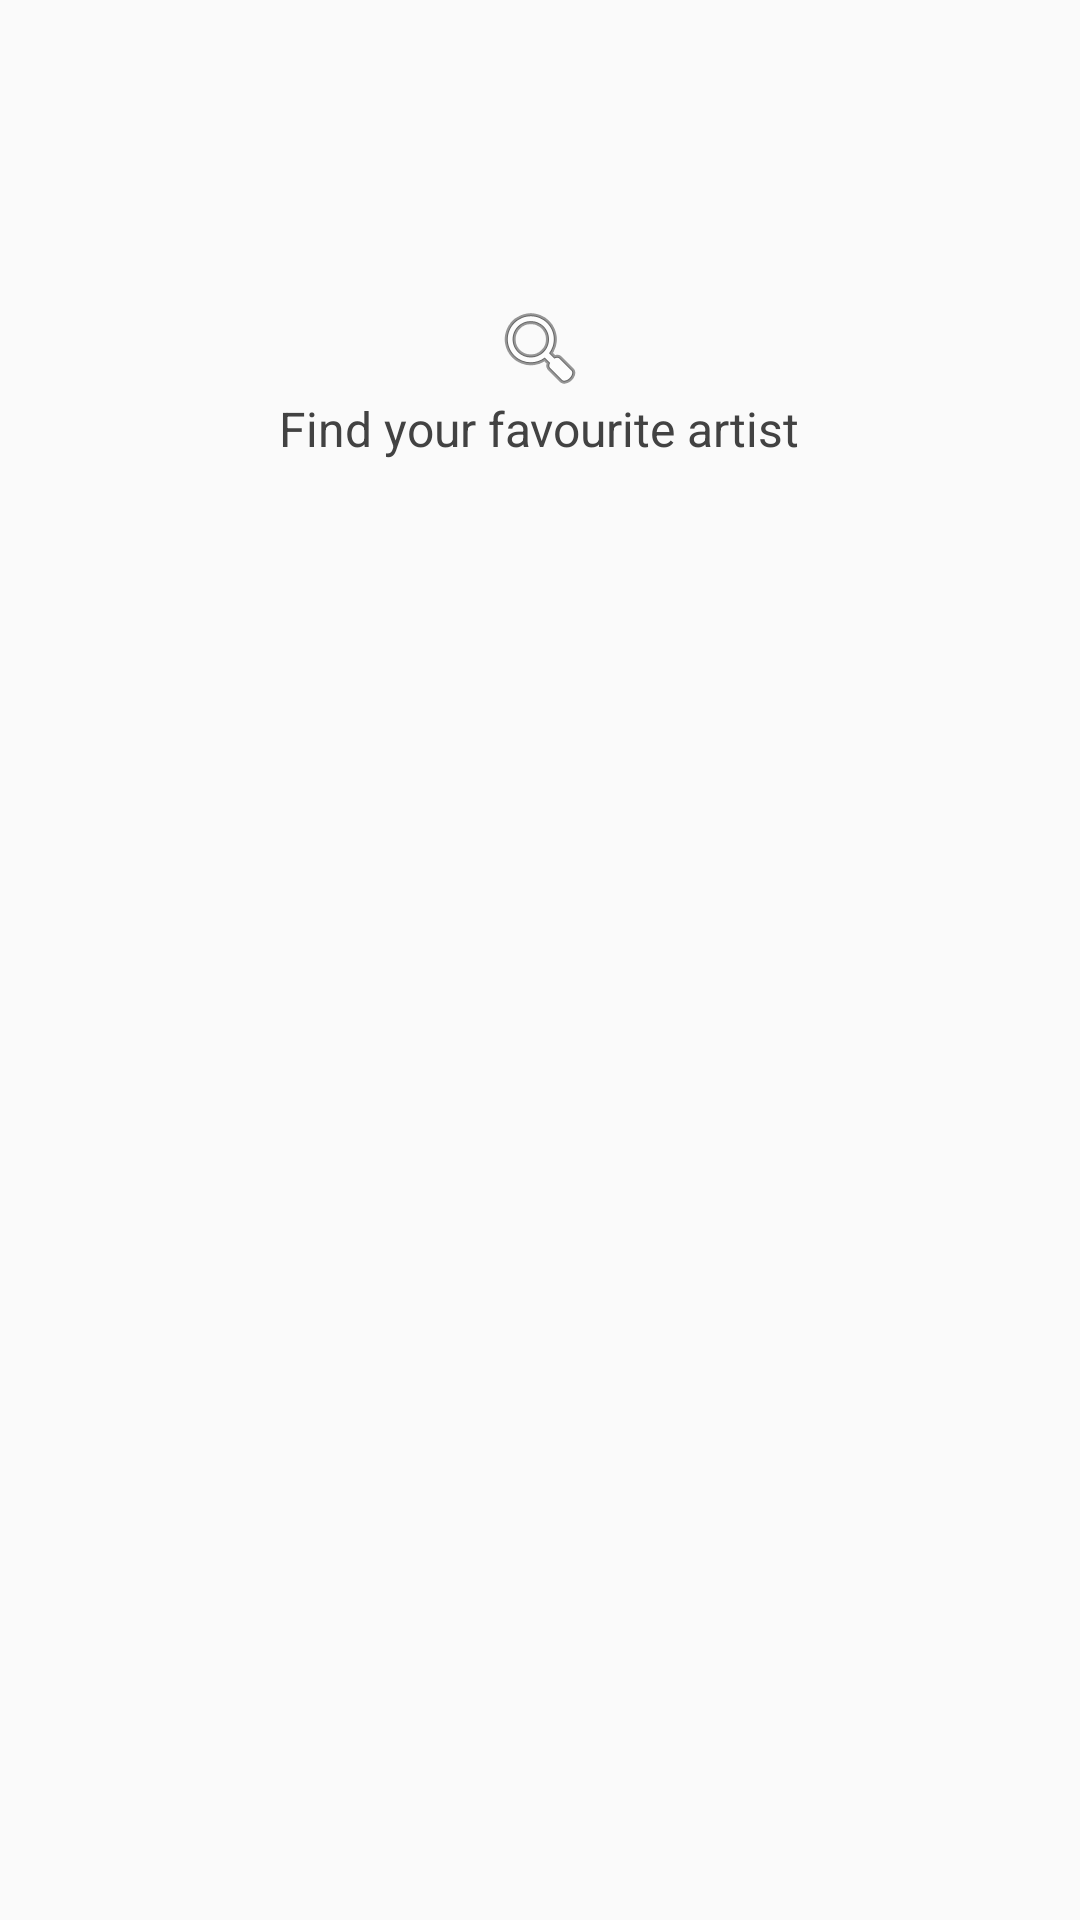

Named icons in this screenshot (1080 x 1920) and their bounding boxes, (x1, y1, x2, y2):
search: (504, 313, 576, 384)
